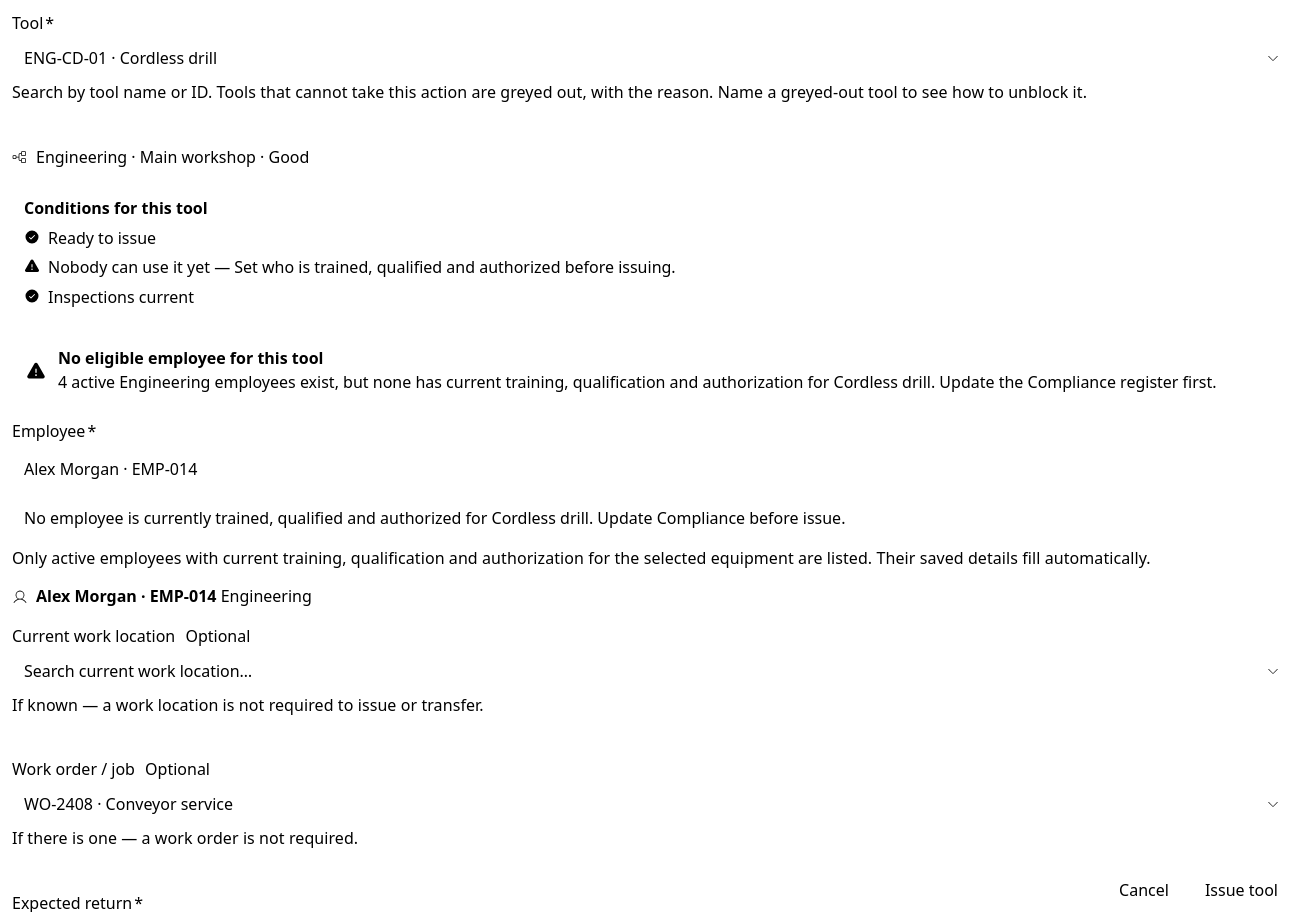
Test: Tools interaction controls › refuses to submit a tool nobody can use, and still shows it on the employee-first path
The width and height of the screenshot is (1304, 912).
Click the button "Issue tool": (1241, 890) [1191, 872, 1292, 908]
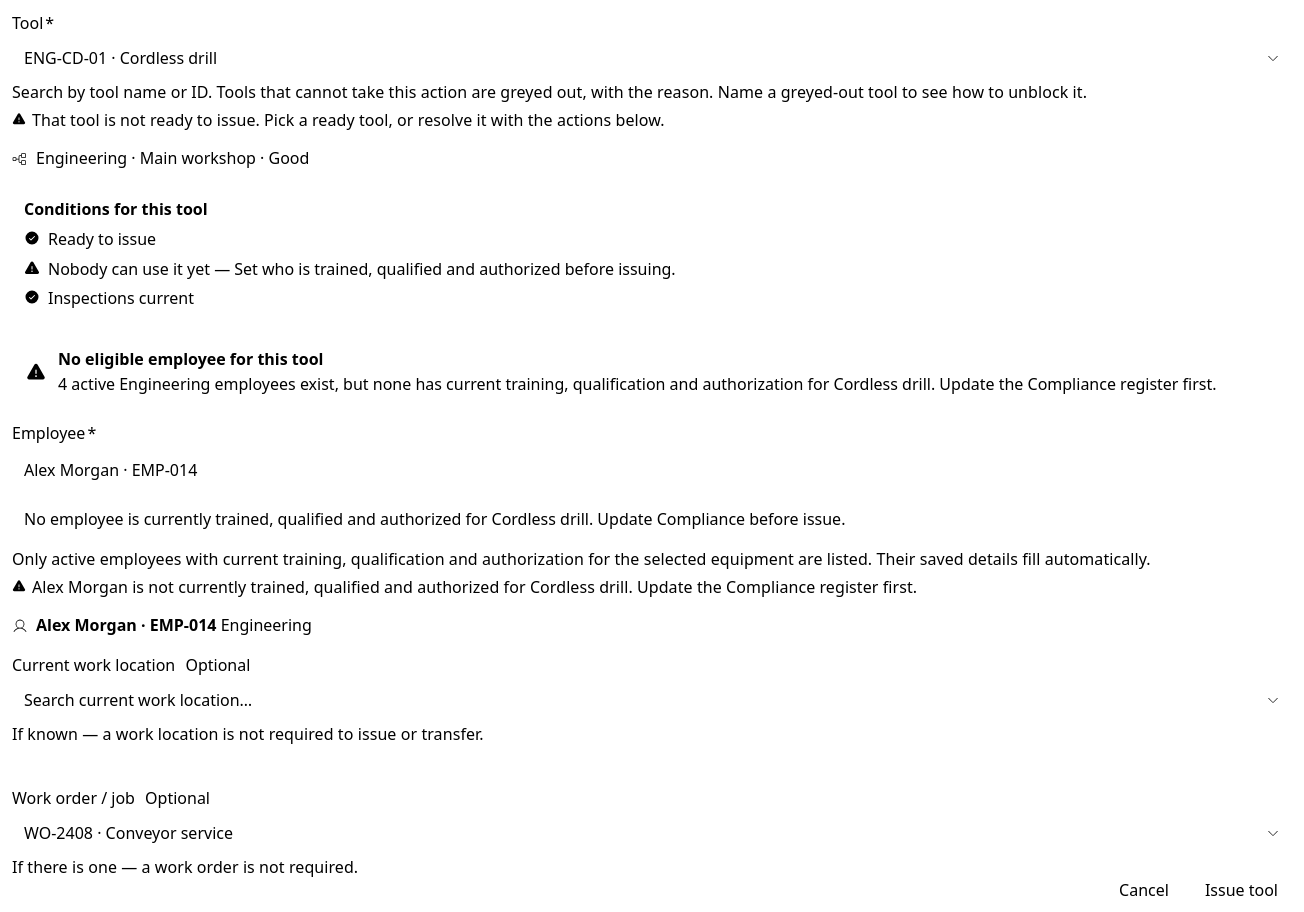
Expected: the text "Nobody can use it yet" is shown, [48, 258, 210, 280]
Expected: the text "That tool is not ready to issue. Pick a ready tool, or resolve it with the actions below." is shown, [32, 108, 665, 130]
